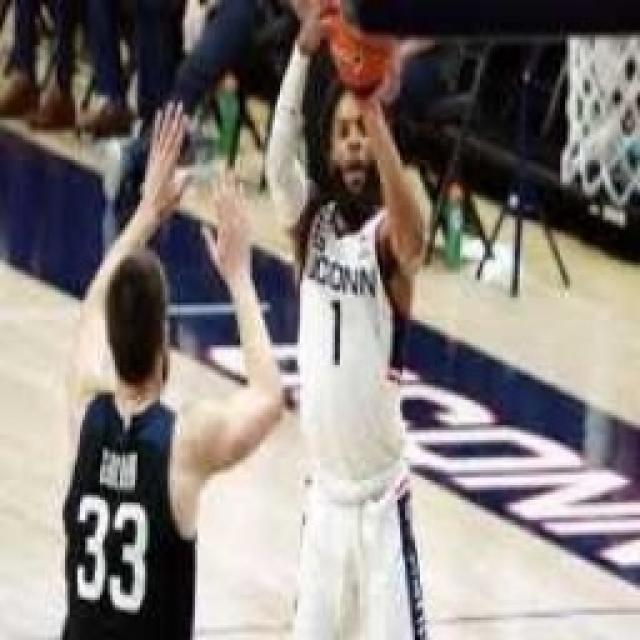basketball: (330, 0, 392, 86)
